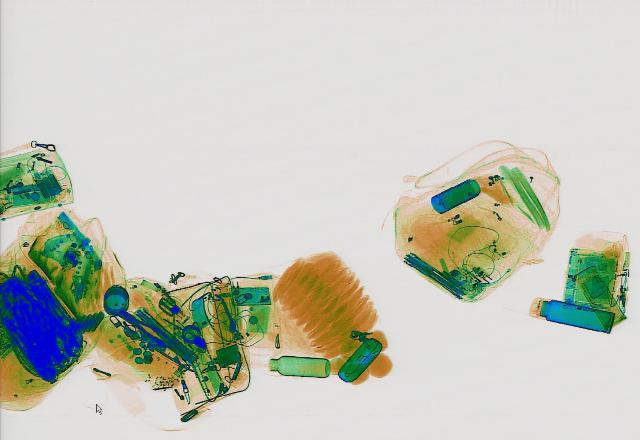Pliers: (112, 305, 178, 346)
